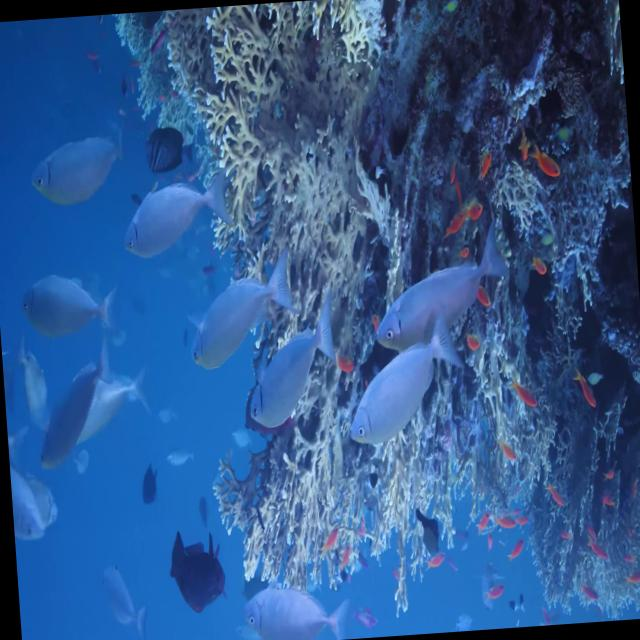fish: (178, 206, 302, 376), (338, 313, 474, 459), (366, 224, 514, 356), (240, 292, 346, 434), (118, 168, 236, 266), (30, 348, 106, 478), (16, 254, 116, 348), (22, 128, 130, 215), (72, 353, 157, 460), (241, 570, 349, 640), (164, 519, 228, 618), (92, 550, 149, 640), (138, 116, 201, 188), (10, 466, 47, 556), (404, 508, 445, 562), (567, 362, 602, 416), (528, 145, 567, 192), (134, 454, 164, 510), (478, 576, 514, 612), (504, 375, 536, 415), (585, 522, 610, 571), (540, 481, 570, 518), (493, 426, 518, 466), (488, 508, 522, 535), (510, 578, 530, 622), (502, 534, 528, 562), (527, 252, 551, 282), (625, 558, 640, 597)
